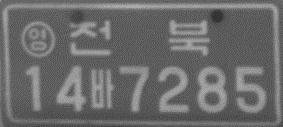1: (19, 64, 50, 111)
2: (157, 64, 189, 113)
4: (57, 64, 85, 111)
5: (235, 65, 267, 114)
7: (118, 64, 149, 112)
8: (196, 66, 227, 114)
바: (89, 66, 114, 110)
영: (19, 20, 56, 60)
전북_D: (66, 19, 210, 57)
